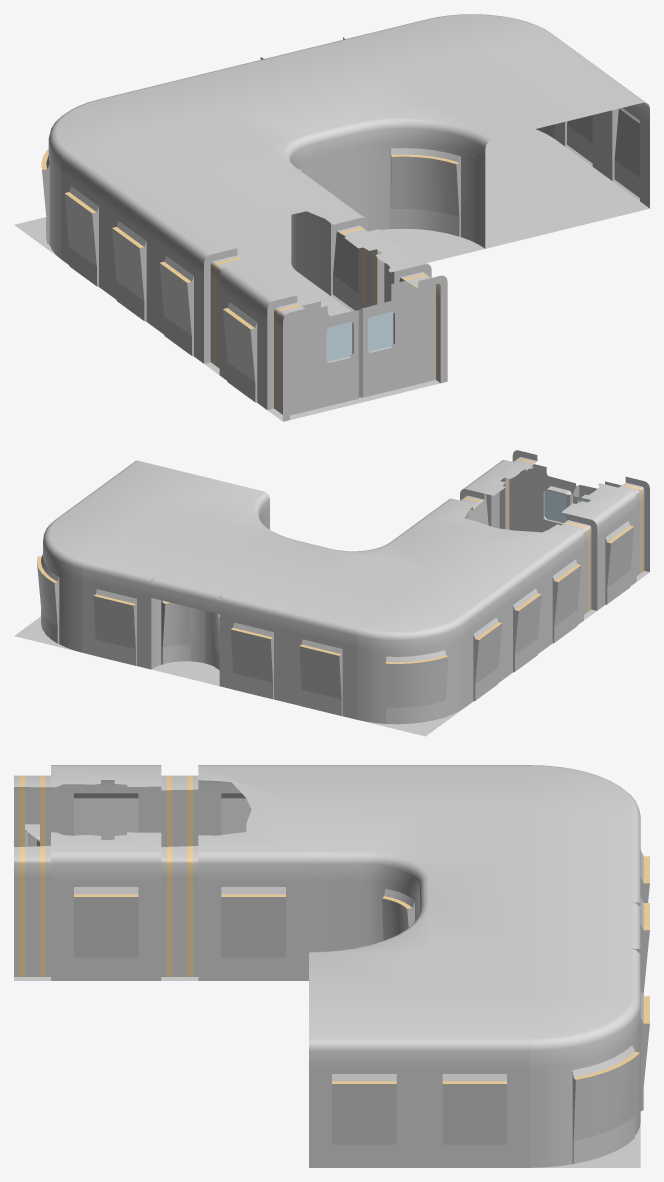
Rendered from Zone A.fbx.
3 views of the same model, one above another, from view 1: azimuth 30°, elevation 25°; view 2: azimuth 150°, elevation 25°; view 3: azimuth 270°, elevation 25° (orthographic). The views are drawn at different scales.
Visible parts, largest first — view 1: map__Level_Roof_Angle_Large_01_500, map__Level_Roof_Angle_Smal_01_502, map__Level_Wall_Arc_90_01_510, map__Level_Door_Left_01_220, map__Level_Door_Left_01_222, map__Level_Roof_01_436, map__Level_Roof_01_438, map__Level_Wall_Simple_01_548, map__Level_Wall_Simple_01_534, map__Level_Wall_Simple_01_540, map__Level_Wall_Simple_01_542, map__Level_Roof_01_432 (+31 smaller); view 2: map__Level_Roof_Angle_Large_01_500, map__Level_Roof_Angle_Smal_01_502, map__Level_Wall_Arc_90_02_512, map__Level_Wall_Simple_01_556, map__Level_Wall_Simple_01_538, map__Level_Wall_Simple_01_544, map__Level_Roof_Angle_01_484, map__Level_Roof_01_456, map__Level_Roof_01_440, map__Level_Roof_01_442, map__Level_Roof_01_454, map__Level_Door_Left_01_220 (+23 smaller); view 3: map__Level_Roof_Angle_Smal_01_502, map__Level_Roof_Angle_Large_01_500, map__Level_Wall_Simple_01_550, map__Level_Wall_Arc_90_02_514, map__Level_Wall_Simple_01_536, map__Level_Wall_Simple_01_552, map__Level_Wall_Simple_01_546, map__Level_Roof_01_458, map__Level_Roof_01_460, map__Level_Roof_Angle_01_486, map__Level_Roof_01_434, map__Level_Wall_HalfArc_90_03_532 (+19 smaller).
Boxes of the visible parts, <box> form: map__Level_Roof_Angle_Large_01_500: <box>308,51,567,162</box>; map__Level_Roof_Angle_Smal_01_502: <box>144,92,355,201</box>; map__Level_Wall_Arc_90_01_510: <box>355,142,485,248</box>; map__Level_Door_Left_01_220: <box>359,275,435,397</box>; map__Level_Door_Left_01_222: <box>278,301,359,415</box>; map__Level_Roof_01_436: <box>109,167,238,242</box>; map__Level_Roof_01_438: <box>61,132,190,207</box>; map__Level_Wall_Simple_01_548: <box>219,289,267,409</box>; map__Level_Wall_Simple_01_534: <box>109,208,156,328</box>; map__Level_Wall_Simple_01_540: <box>156,243,203,363</box>; map__Level_Wall_Simple_01_542: <box>61,173,108,293</box>; map__Level_Roof_01_432: <box>156,201,262,277</box>; map__Level_Roof_Angle_Large_01_500: <box>122,476,296,567</box>; map__Level_Roof_Angle_Smal_01_502: <box>260,527,475,600</box>; map__Level_Wall_Arc_90_02_512: <box>357,636,465,724</box>; map__Level_Wall_Simple_01_556: <box>82,581,151,669</box>; map__Level_Wall_Simple_01_538: <box>219,614,288,702</box>; map__Level_Wall_Simple_01_544: <box>288,631,356,719</box>; map__Level_Roof_Angle_01_484: <box>357,601,465,652</box>; map__Level_Roof_01_456: <box>82,534,190,597</box>; map__Level_Roof_01_440: <box>219,567,327,630</box>; map__Level_Roof_01_442: <box>288,584,395,647</box>; map__Level_Roof_01_454: <box>151,551,258,614</box>; map__Level_Door_Left_01_220: <box>509,459,576,532</box>; map__Level_Roof_Angle_Smal_01_502: <box>309,809,530,909</box>; map__Level_Roof_Angle_Large_01_500: <box>309,902,530,995</box>; map__Level_Wall_Simple_01_550: <box>419,1067,530,1167</box>; map__Level_Wall_Arc_90_02_514: <box>530,1023,640,1167</box>; map__Level_Wall_Simple_01_536: <box>198,880,308,980</box>; map__Level_Wall_Simple_01_552: <box>309,1067,419,1167</box>; map__Level_Wall_Simple_01_546: <box>51,880,161,980</box>; map__Level_Roof_01_458: <box>419,996,530,1067</box>; map__Level_Roof_01_460: <box>309,996,419,1067</box>; map__Level_Roof_Angle_01_486: <box>530,996,640,1067</box>; map__Level_Roof_01_434: <box>198,809,308,880</box>; map__Level_Wall_HalfArc_90_03_532: <box>309,880,419,951</box>.
Size of the model in its own units: 1850 by 375 by 1725.
